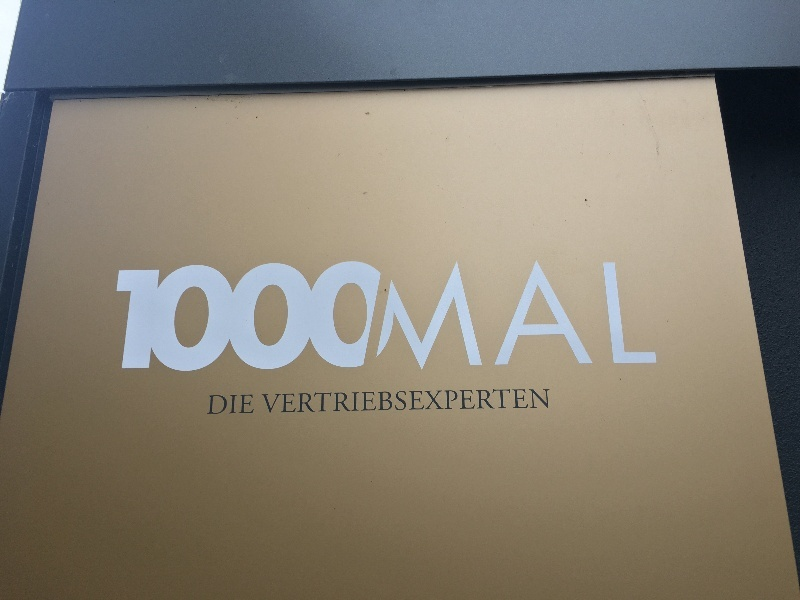text: (129, 260, 144, 374), (145, 260, 160, 374), (161, 260, 176, 374), (177, 260, 192, 374), (193, 260, 208, 374), (209, 260, 224, 374), (225, 260, 240, 374), (241, 260, 256, 374), (257, 260, 272, 374), (273, 260, 288, 374), (289, 260, 304, 374), (305, 260, 320, 374), (321, 260, 336, 374), (337, 260, 352, 374), (353, 260, 368, 374), (369, 260, 384, 374), (385, 260, 400, 374), (401, 260, 416, 374), (417, 260, 432, 374), (433, 260, 448, 374), (449, 260, 464, 374), (465, 260, 480, 374), (481, 260, 496, 374), (497, 260, 512, 374), (513, 260, 528, 374), (529, 260, 544, 374), (545, 260, 560, 374), (561, 260, 576, 374), (577, 260, 592, 374), (593, 260, 608, 374), (609, 260, 624, 374), (625, 260, 640, 374), (641, 260, 656, 374), (118, 260, 128, 374), (273, 389, 288, 415), (289, 389, 304, 415), (305, 389, 320, 415), (321, 389, 336, 415), (337, 389, 352, 415), (353, 389, 368, 415), (369, 389, 384, 415), (385, 389, 400, 415), (401, 389, 416, 415), (417, 389, 432, 415), (433, 389, 448, 415), (449, 389, 464, 415), (465, 389, 480, 415), (481, 389, 496, 415), (497, 389, 512, 415), (513, 389, 528, 415), (529, 389, 544, 415), (209, 395, 224, 416), (225, 395, 240, 416), (241, 395, 255, 416), (263, 389, 272, 415), (657, 260, 659, 374), (545, 389, 551, 415)
